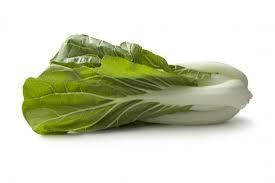Healthy-Pechay: (3, 20, 256, 139)
